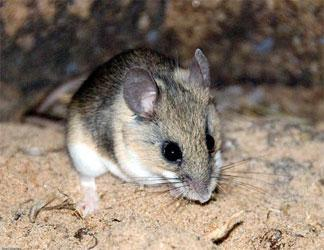rat: (65, 48, 223, 219)
